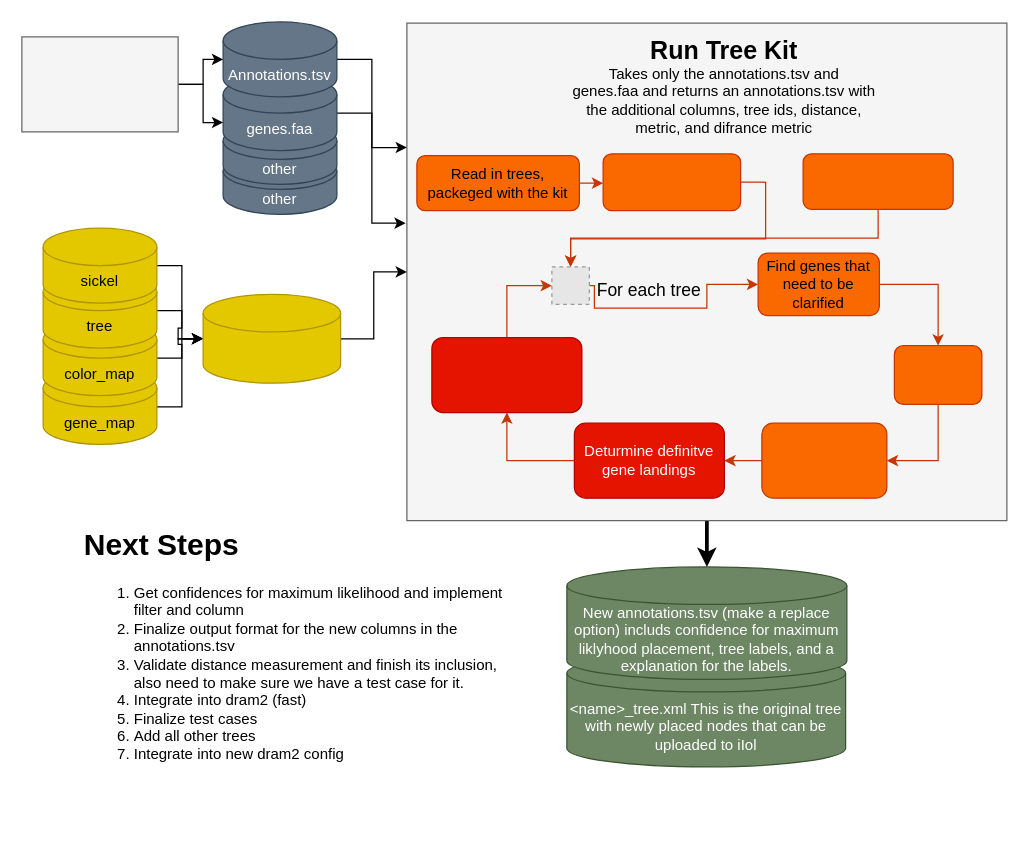
Image size: 1029x868. Some labels were removed from this diagram. Grey dashed boxes stand in for pictures. Here are the shapes that lost their labels. From the top down, the centre of each, then its label:
At (99,84): "Run DRAM with no additional arguments".
At (671,181): "Locate Definitive nodes (need colors)".
At (877,180): "Read in annotations.tsv".
At (271,338): "One Tree: for example nar nax tree".
At (506,374): "Check Distances for more hits".
At (937,374): "Filter genes.faa".
At (824,460): "Run pplace on genes.faa".
